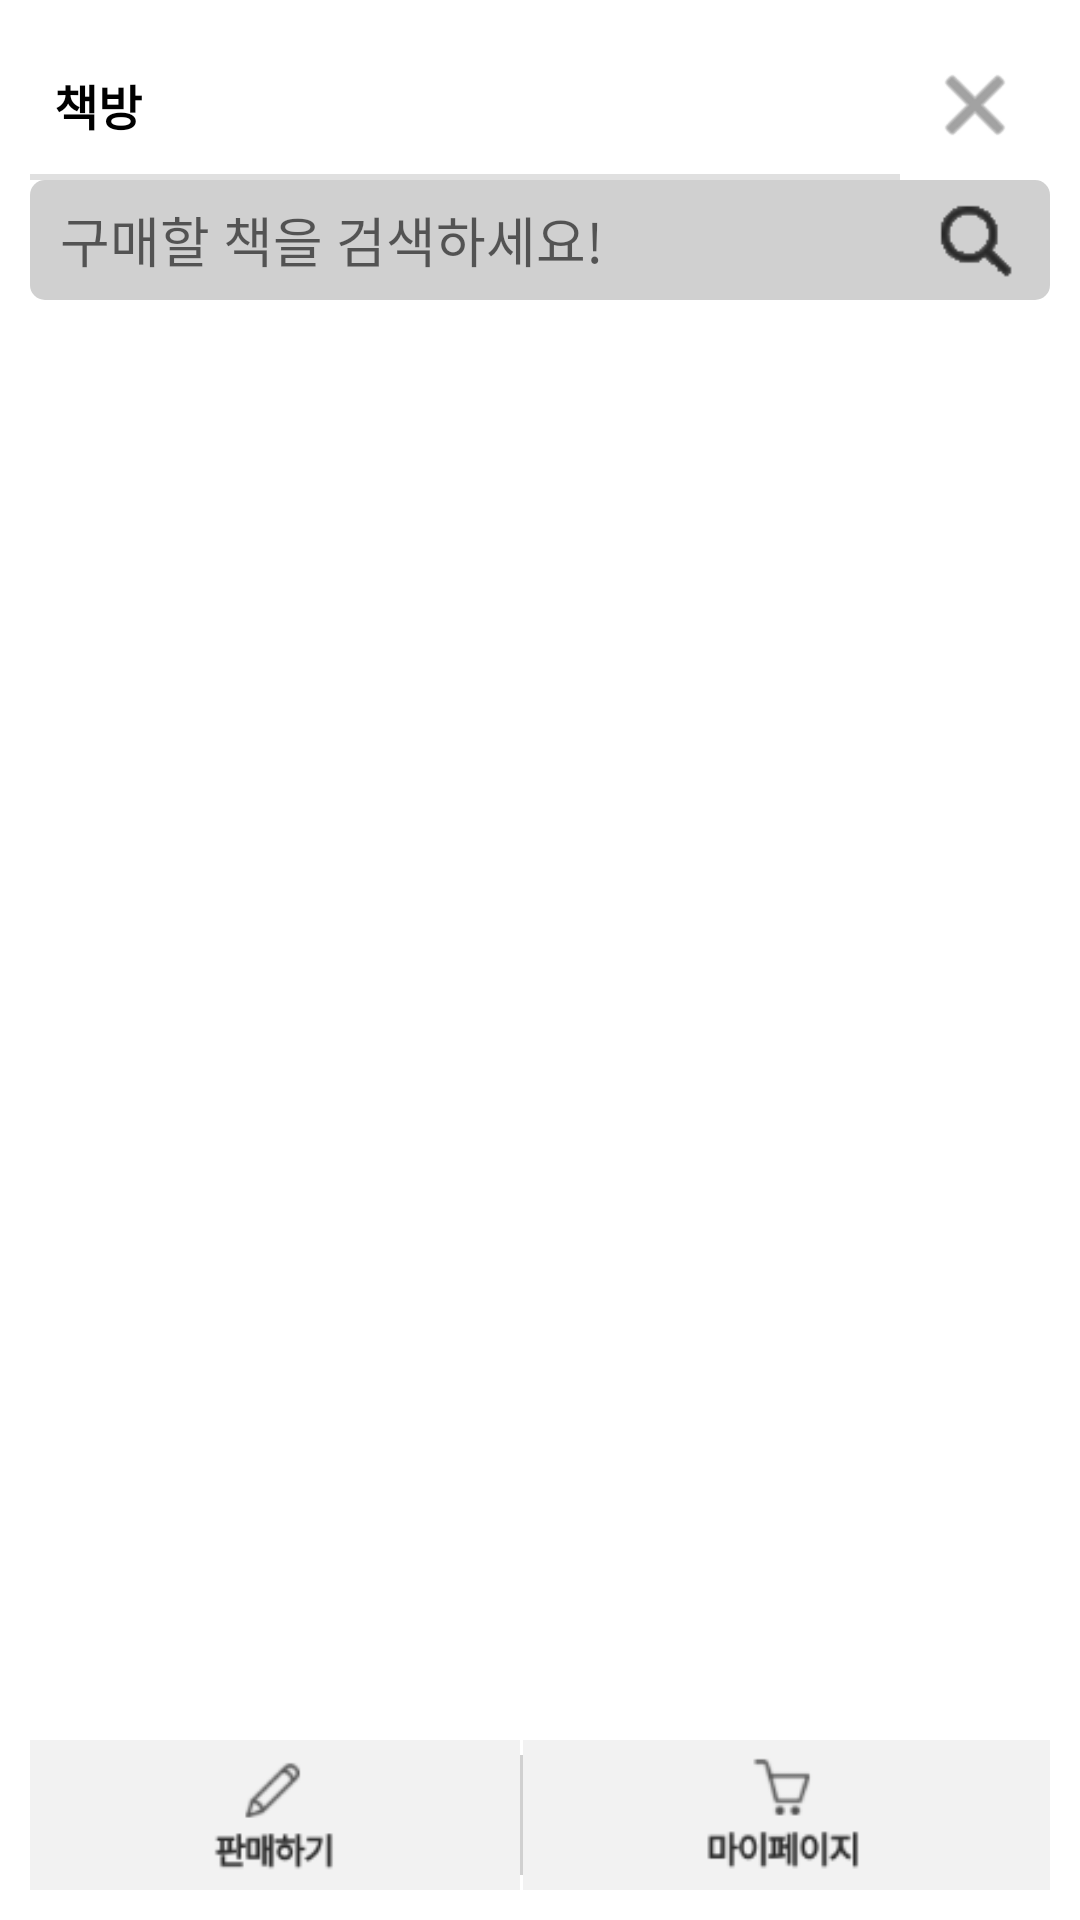

Point at icon controls on the screen. Image size 1080 x 1920, points as (x,y).
close clear cancel: (975,105)
contact list search: (990,240)
